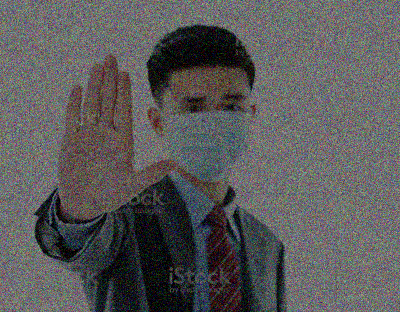with_mask: (163, 88, 251, 185)
